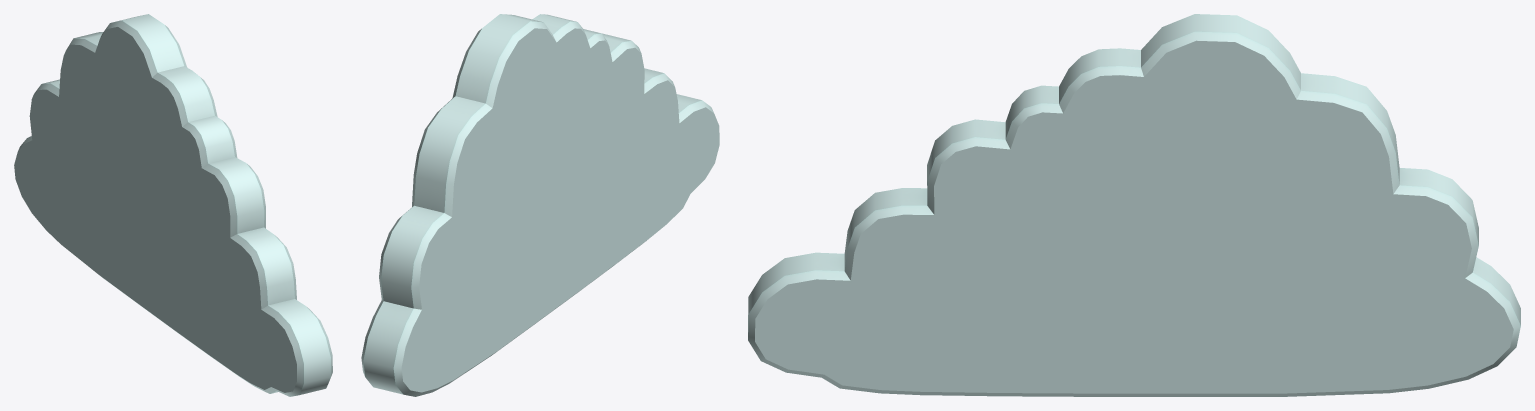
Rendered from platcloud01.fbx.
3 views of the same model, side by side, from view 1: azimuth 30°, elevation 25°; view 2: azimuth 150°, elevation 25°; view 3: azimuth 270°, elevation 25° (orthographic). The views are drawn at different scales.
Visible parts, largest first — view 1: platcloud01; view 2: platcloud01; view 3: platcloud01.
Boxes of the visible parts, box(x1,y1,x2,y2) form: platcloud01: box(14, 14, 332, 396); platcloud01: box(361, 14, 719, 396); platcloud01: box(748, 14, 1520, 396).
Size of the model in its own units: 69.17 by 503 by 965.
